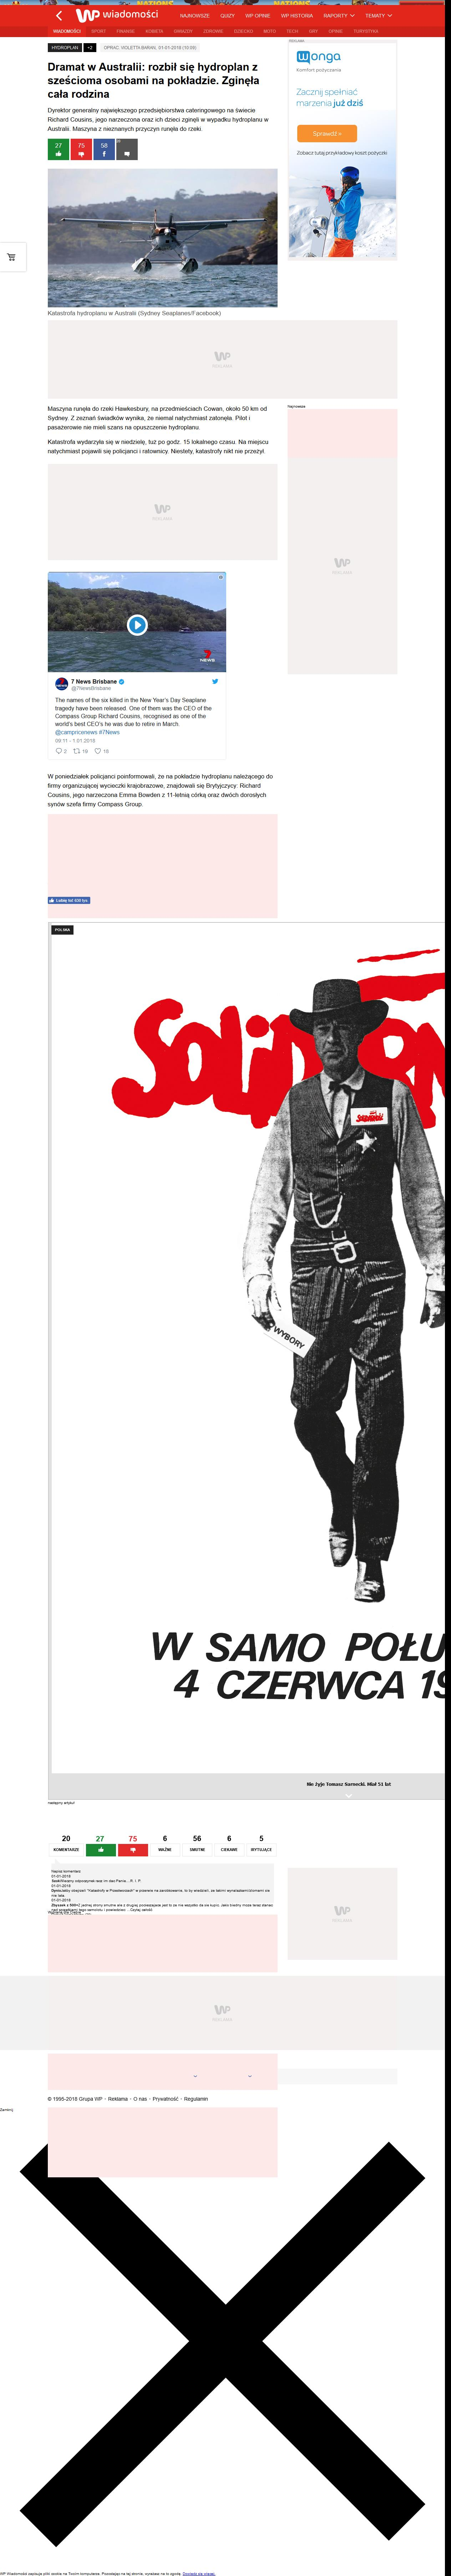title: (48, 62, 260, 99)
